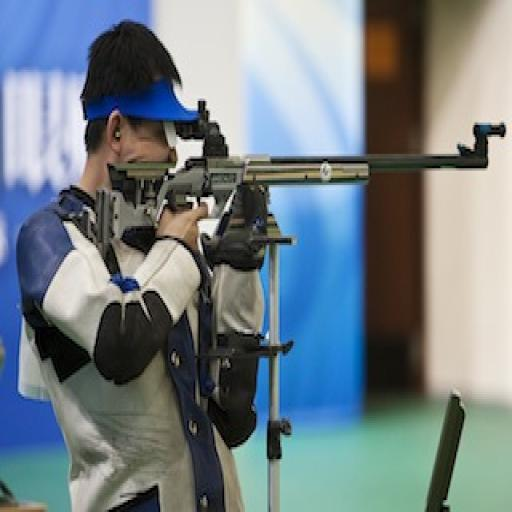shooting: (14, 16, 269, 510)
